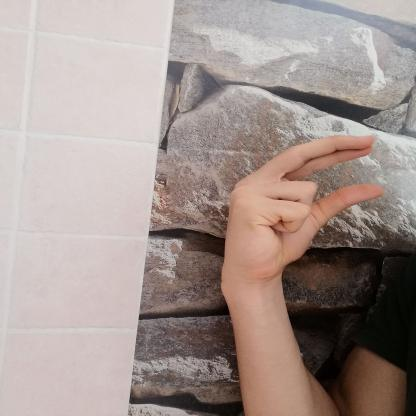DHELL: (209, 126, 390, 288)
